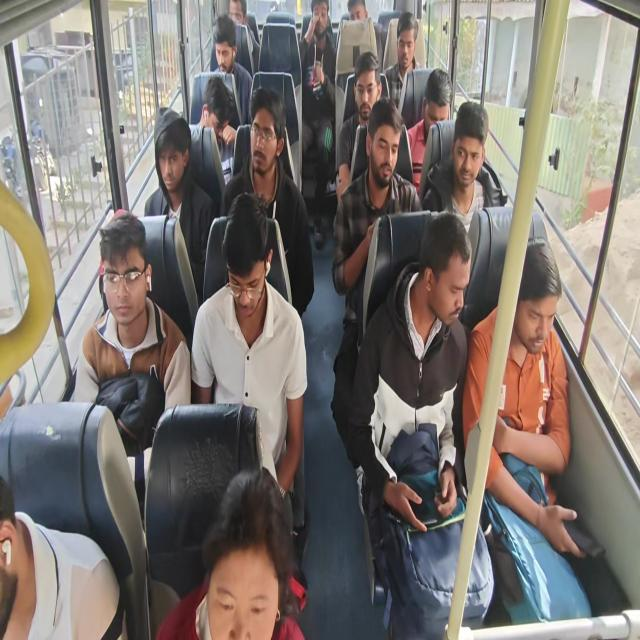person: (348, 210, 494, 638), (190, 191, 308, 537), (462, 241, 586, 560), (330, 97, 423, 474), (73, 210, 191, 455), (155, 468, 306, 638), (222, 85, 314, 318), (0, 475, 128, 639), (144, 106, 214, 299), (421, 100, 493, 234), (298, 1, 336, 248), (336, 51, 383, 204), (407, 67, 452, 192), (190, 75, 239, 185), (209, 14, 253, 126), (382, 11, 422, 110), (346, 0, 386, 67), (228, 0, 259, 47)
